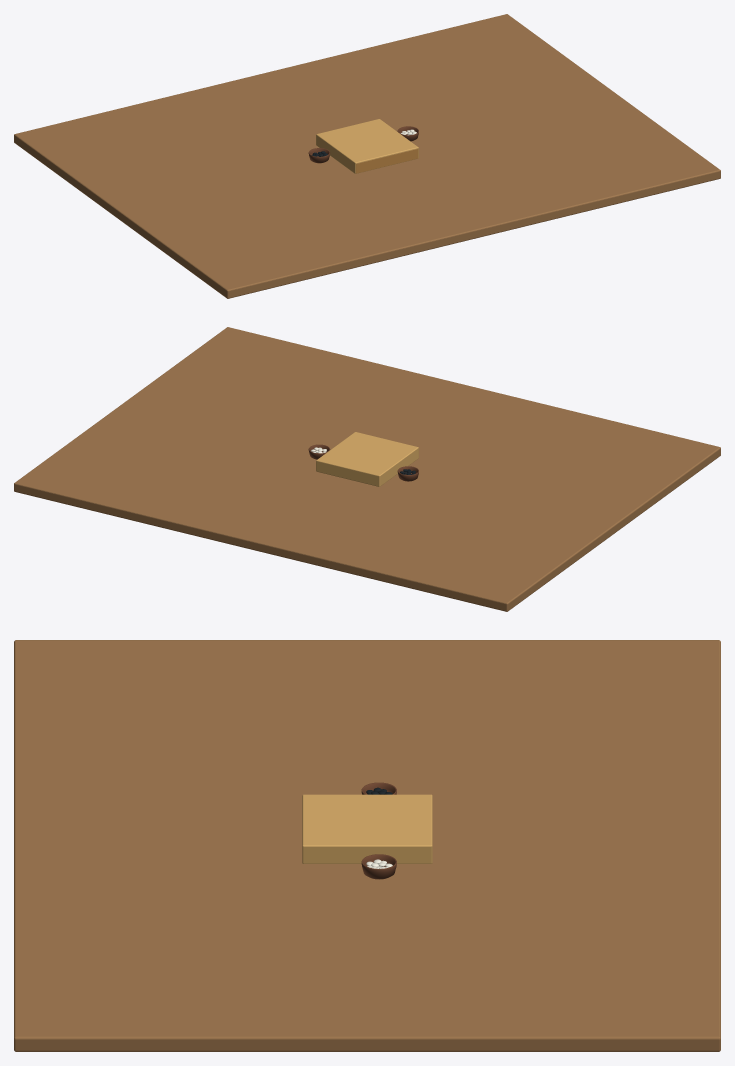
The model's file is table.glb.
The picture shows the model from 3 angles, top to bottom: view 1: azimuth 30°, elevation 25°; view 2: azimuth 150°, elevation 25°; view 3: azimuth 270°, elevation 25°; orthographic projection. The views are drawn at different scales.
Visible parts, largest first — view 1: Table, Board, End grain; view 2: Table, Board; view 3: Table, Board.
Boxes of the visible parts, left/top/right/bottom form: Table: left=14, top=14, right=720, bottom=298; Board: left=316, top=119, right=418, bottom=173; End grain: left=356, top=149, right=418, bottom=173; Table: left=14, top=327, right=720, bottom=611; Board: left=316, top=432, right=418, bottom=486; Table: left=14, top=640, right=720, bottom=1051; Board: left=302, top=794, right=432, bottom=863.
Size of the model in its own units: 8 by 0.315 by 6.
